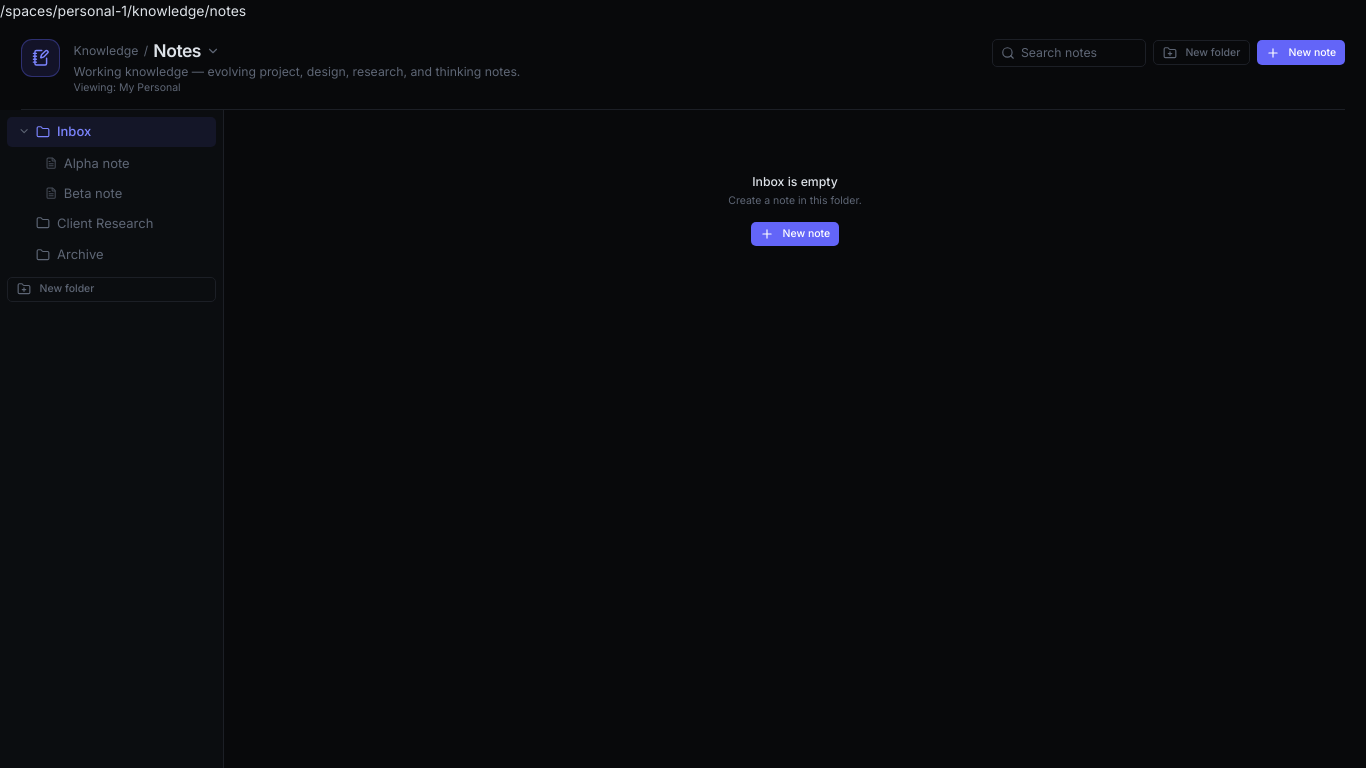
Test: Knowledge routing › uses a custom dialog before deleting notes with note-to-note links
Press Delete in the button "Alpha note", box [10,150,212,176]
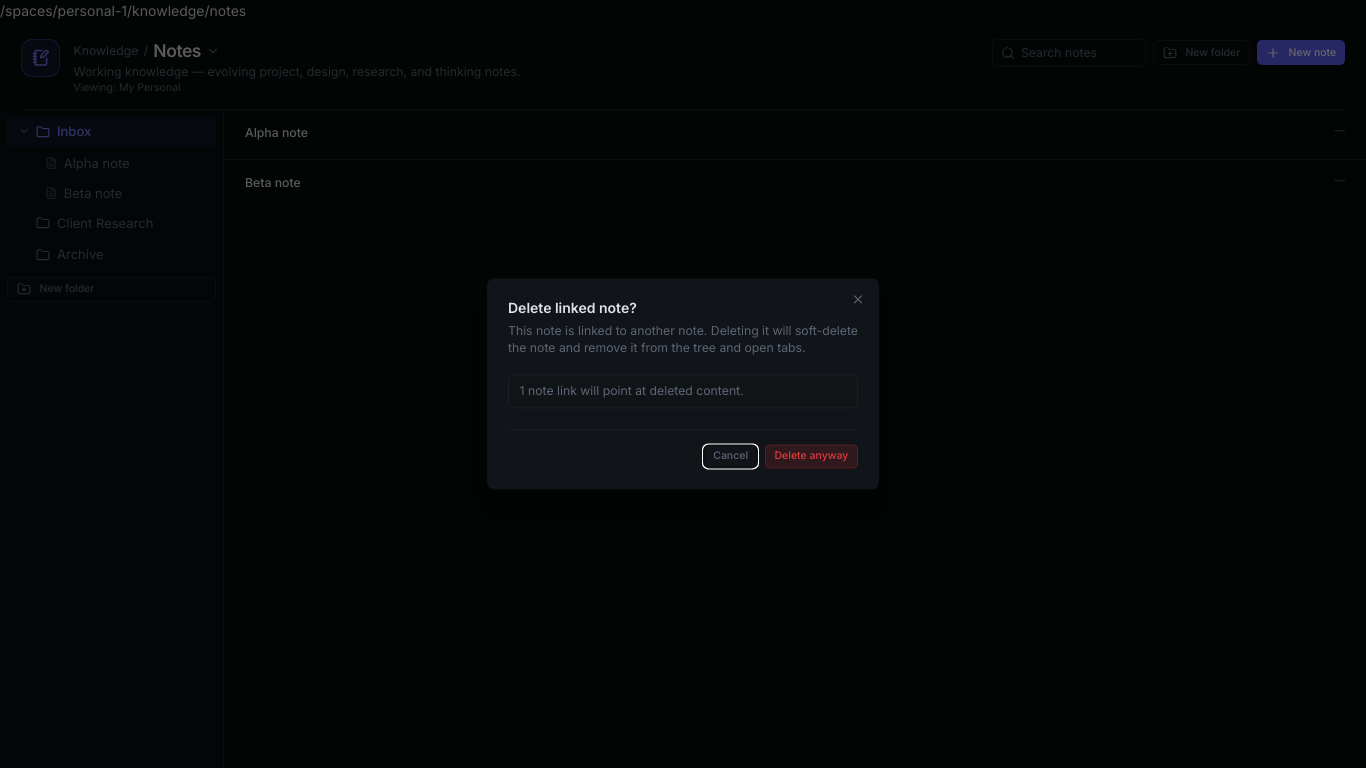
Check: the heading "Delete linked note?" is shown, box [508,299,637,316]
Click the button "Delete anyway" at (811, 456), box [765,444,858,469]
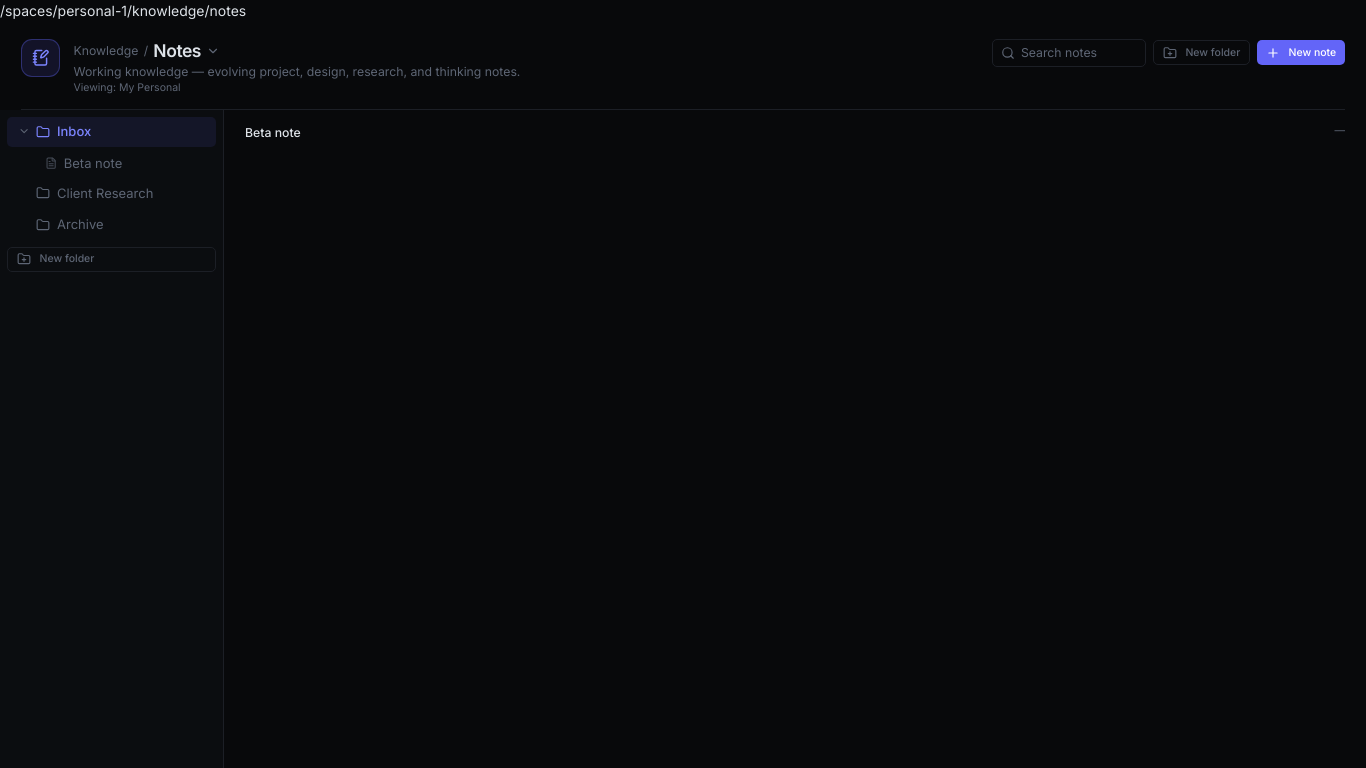
Check: the button "Alpha note" is gone
